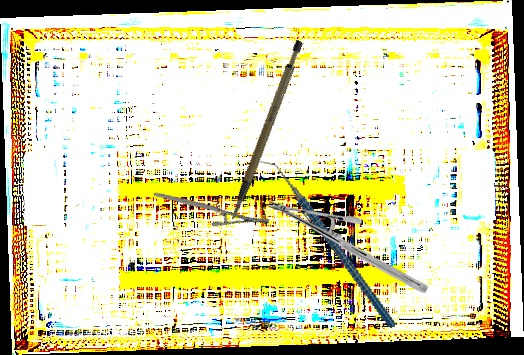Chopper: (256, 133, 397, 352)
Needle Holder: (267, 200, 428, 293), (152, 158, 272, 257)
Scalpel Handle: (202, 37, 327, 222)
